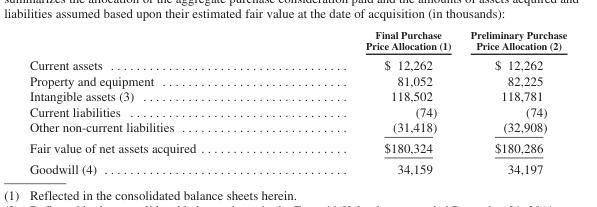table: (28, 28, 566, 175)
table column: (28, 28, 280, 175), (280, 28, 460, 175), (460, 28, 566, 175)
table column header: (28, 28, 566, 54)
table row: (28, 28, 566, 54), (28, 137, 566, 158), (28, 54, 566, 72), (28, 119, 566, 137), (28, 158, 566, 175), (28, 72, 566, 88), (28, 103, 566, 119), (28, 88, 566, 103)
